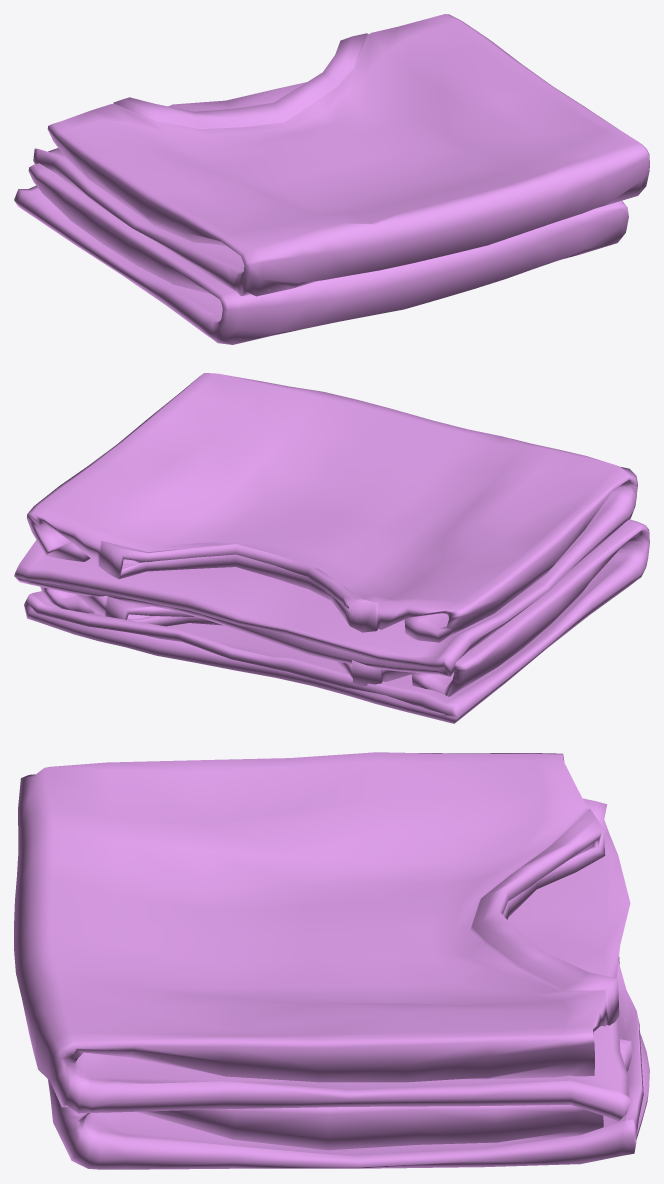
Rendered from Folded_T_Shirt22.fbx.
3 views of the same model, one above another, from view 1: azimuth 30°, elevation 25°; view 2: azimuth 150°, elevation 25°; view 3: azimuth 270°, elevation 25° (orthographic). The views are drawn at different scales.
Visible parts, largest first — view 1: Folded_T_Shirt22; view 2: Folded_T_Shirt22; view 3: Folded_T_Shirt22.
Part boxes in pixels (bbox=[...]): Folded_T_Shirt22: bbox=[14, 14, 649, 344]; Folded_T_Shirt22: bbox=[14, 373, 649, 723]; Folded_T_Shirt22: bbox=[14, 752, 649, 1169].
Size of the model in its own units: 38.43 by 8.12 by 33.24.
